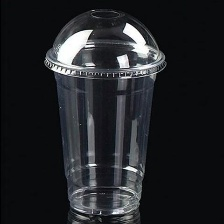glass: (38, 5, 169, 222)
